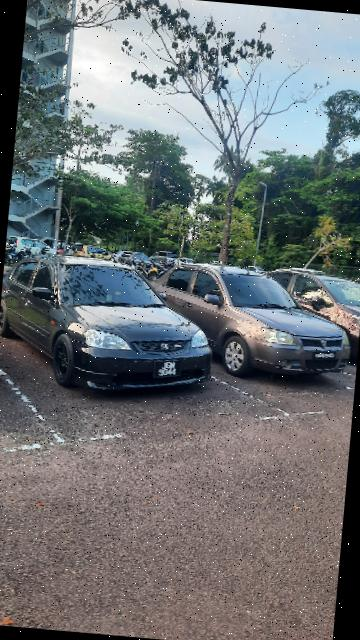License_Plate: (151, 358, 186, 383), (312, 348, 340, 363)
car: (1, 244, 228, 396), (142, 260, 360, 387)
